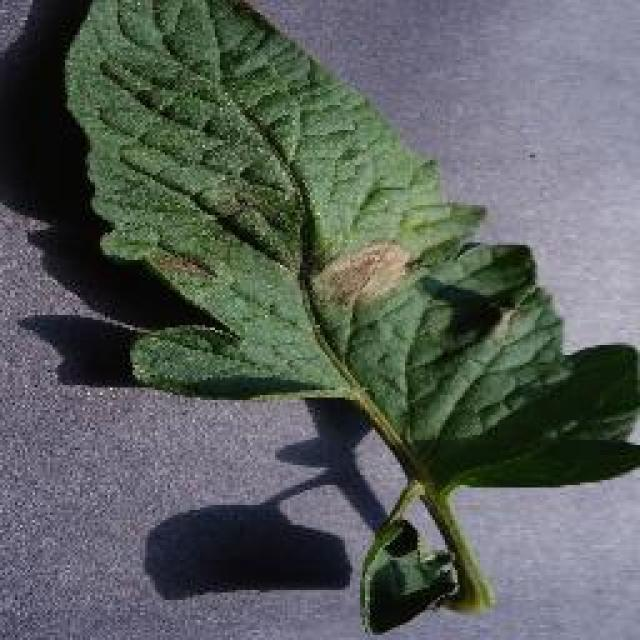Tomato Late Blight: (137, 95, 440, 383)
